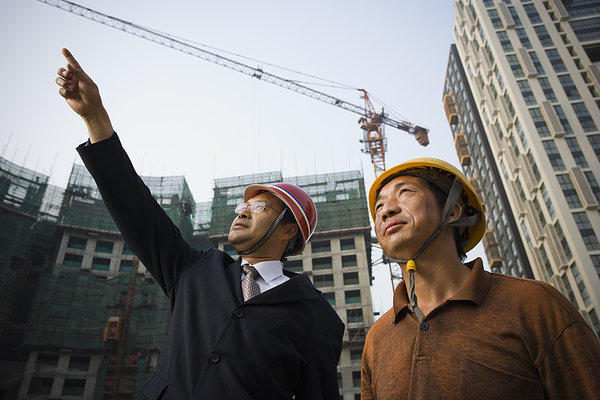hard-hat: (368, 157, 486, 254), (243, 181, 318, 256)
person: (55, 47, 346, 399), (360, 157, 600, 400)
